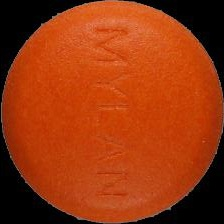0378-0574: (0, 0, 224, 224)
